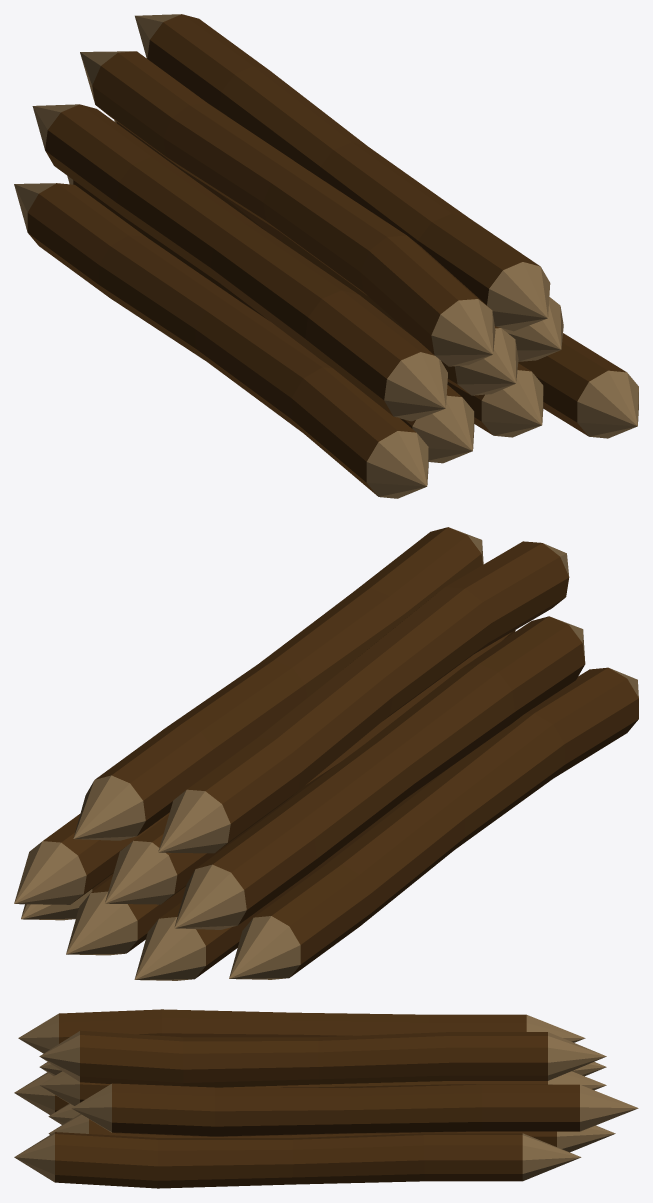
File: Wooden_Log_02.fbx
3 views of the same model, one above another, from view 1: azimuth 30°, elevation 25°; view 2: azimuth 150°, elevation 25°; view 3: azimuth 270°, elevation 25° (orthographic). The views are drawn at different scales.
Visible parts, largest first — view 1: Wooden_Log_02; view 2: Wooden_Log_02; view 3: Wooden_Log_02.
Boxes of the visible parts, x1,y1,x2,y2 form: Wooden_Log_02: [14, 14, 638, 498]; Wooden_Log_02: [14, 527, 638, 980]; Wooden_Log_02: [14, 1009, 638, 1188].
Bounding box in the file's own units: 159 × 105 × 459.
